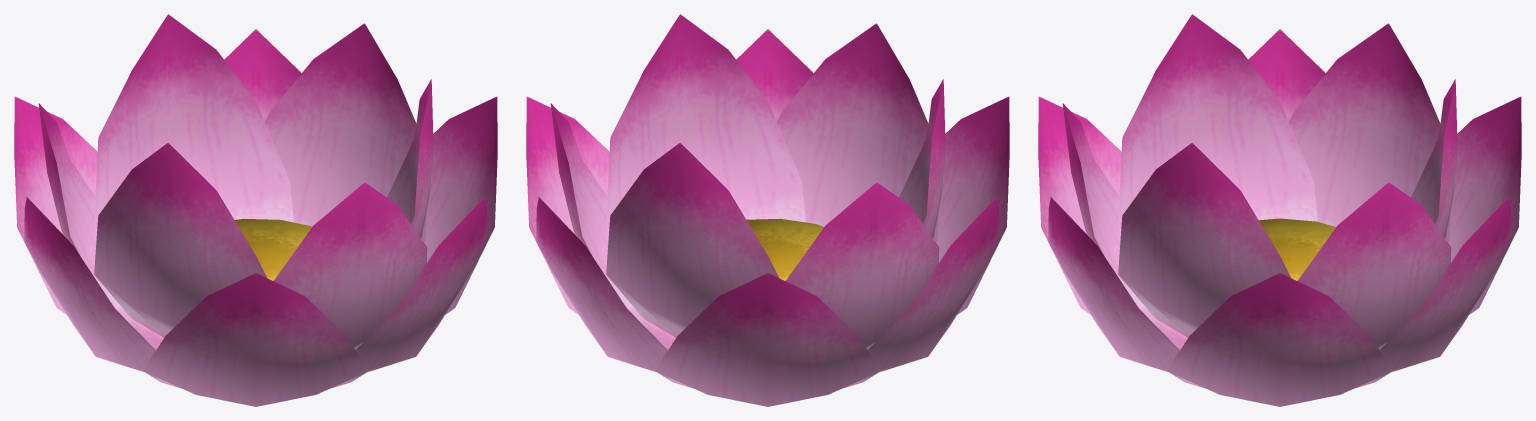
File: lotus.fbx
3 renders of one model, left to right at view 1: azimuth 30°, elevation 25°; view 2: azimuth 150°, elevation 25°; view 3: azimuth 270°, elevation 25°, orthographic.
Visible parts, largest first — view 1: lotus-petal.005, lotus-petal.011, lotus-petal.002, lotus-petal, lotus-petal.008, lotus.face; view 2: lotus-petal.005, lotus-petal.011, lotus-petal.002, lotus-petal, lotus-petal.008, lotus.face; view 3: lotus-petal.002, lotus-petal.005, lotus-petal.011, lotus-petal.008, lotus-petal, lotus.face.
Part boxes in pixels (x1=…): lotus-petal.005: x1=38, y1=23, x2=427, y2=349; lotus-petal.011: x1=14, y1=96, x2=497, y2=406; lotus-petal.002: x1=94, y1=79, x2=433, y2=337; lotus-petal: x1=94, y1=14, x2=293, y2=233; lotus-petal.008: x1=24, y1=29, x2=487, y2=371; lotus.face: x1=234, y1=219, x2=312, y2=280; lotus-petal.005: x1=550, y1=23, x2=939, y2=349; lotus-petal.011: x1=526, y1=96, x2=1009, y2=406; lotus-petal.002: x1=606, y1=14, x2=945, y2=237; lotus-petal: x1=606, y1=143, x2=778, y2=337; lotus-petal.008: x1=536, y1=29, x2=999, y2=371; lotus.face: x1=746, y1=219, x2=823, y2=280; lotus-petal.002: x1=1118, y1=14, x2=1317, y2=337; lotus-petal.005: x1=1062, y1=23, x2=1451, y2=349; lotus-petal.011: x1=1038, y1=96, x2=1521, y2=406; lotus-petal.008: x1=1048, y1=29, x2=1511, y2=371; lotus-petal: x1=1411, y1=79, x2=1457, y2=237; lotus.face: x1=1259, y1=218, x2=1335, y2=280.
Bounding box in the file's own units: 311 × 191 × 277.
